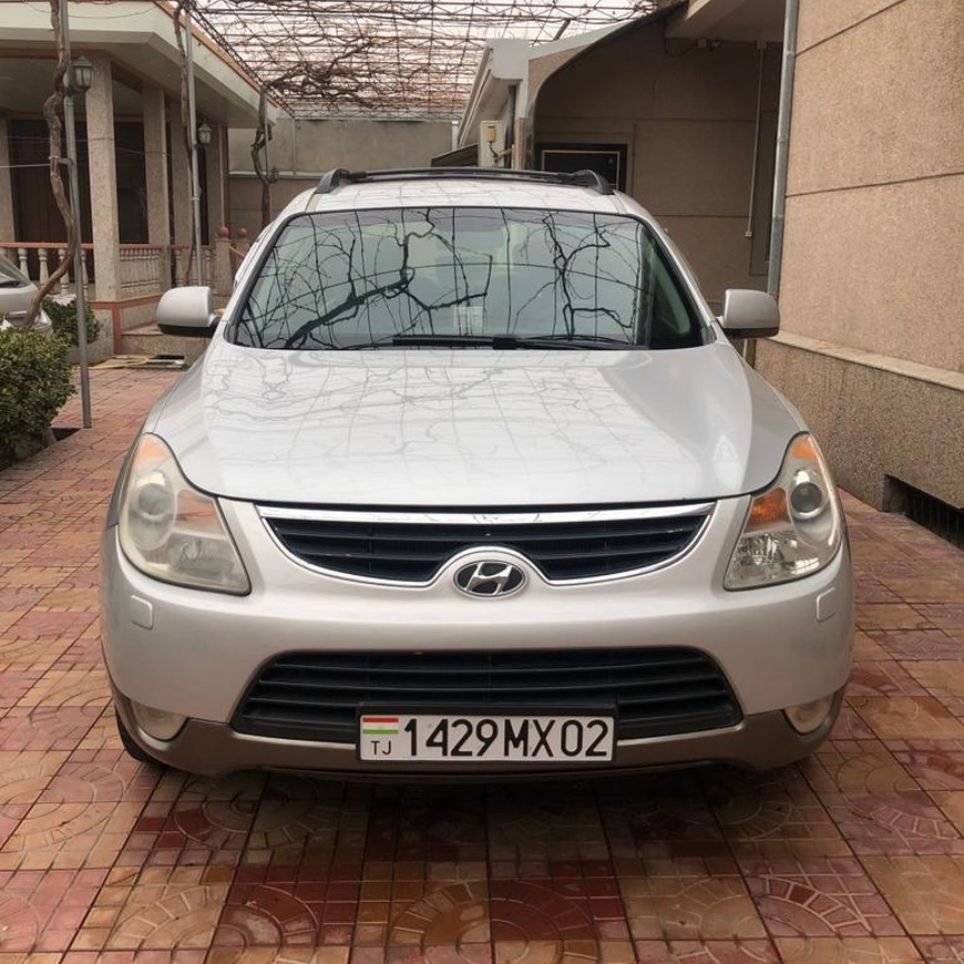license plate: (358, 708, 617, 764)
truck: (90, 164, 859, 814)
